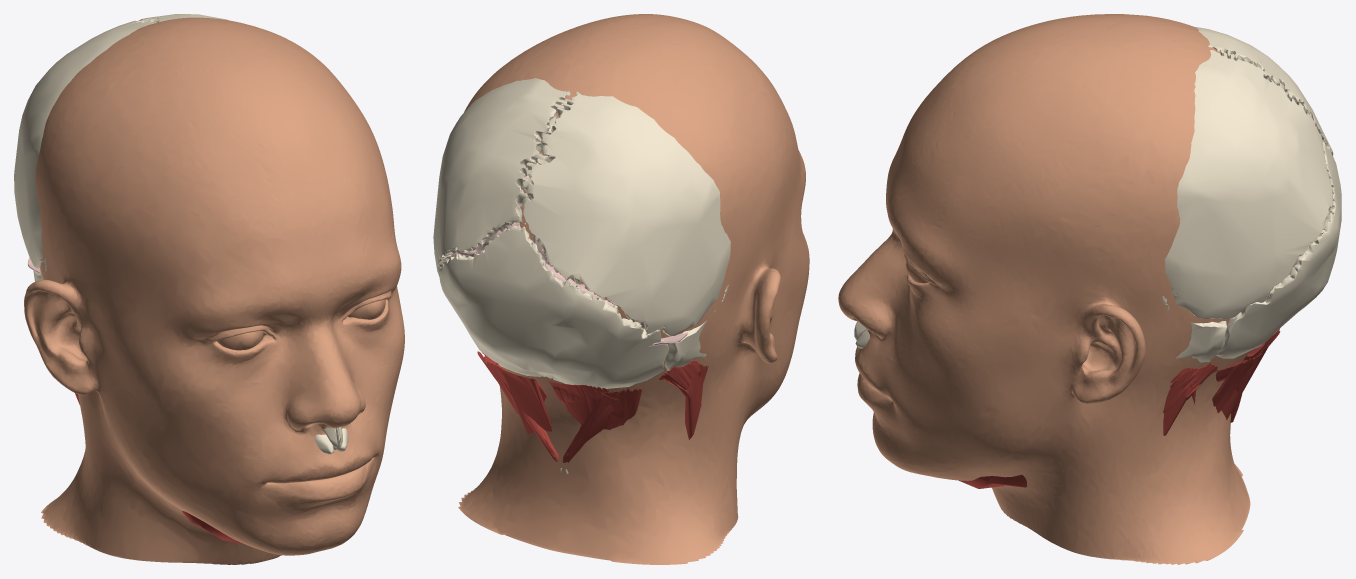
File: head.glb
The picture shows the model from 3 angles, left to right: view 1: azimuth 30°, elevation 25°; view 2: azimuth 150°, elevation 25°; view 3: azimuth 270°, elevation 25°; orthographic projection. The views are drawn at different scales.
Visible parts, largest first — view 1: skin, bone; view 2: skin, bone, muscle, organ-brain; view 3: skin, bone, muscle.
Part boxes in pixels (x1,y1,x2,y2): skin: [24, 17, 404, 564]; bone: [14, 14, 348, 454]; skin: [458, 14, 809, 564]; bone: [433, 78, 730, 474]; muscle: [477, 351, 746, 462]; organ-brain: [448, 168, 688, 346]; skin: [838, 14, 1250, 564]; bone: [854, 27, 1341, 429]; muscle: [958, 329, 1280, 488].
Bounding box in the file's own units: 0.1784 × 0.2441 × 0.2302.
